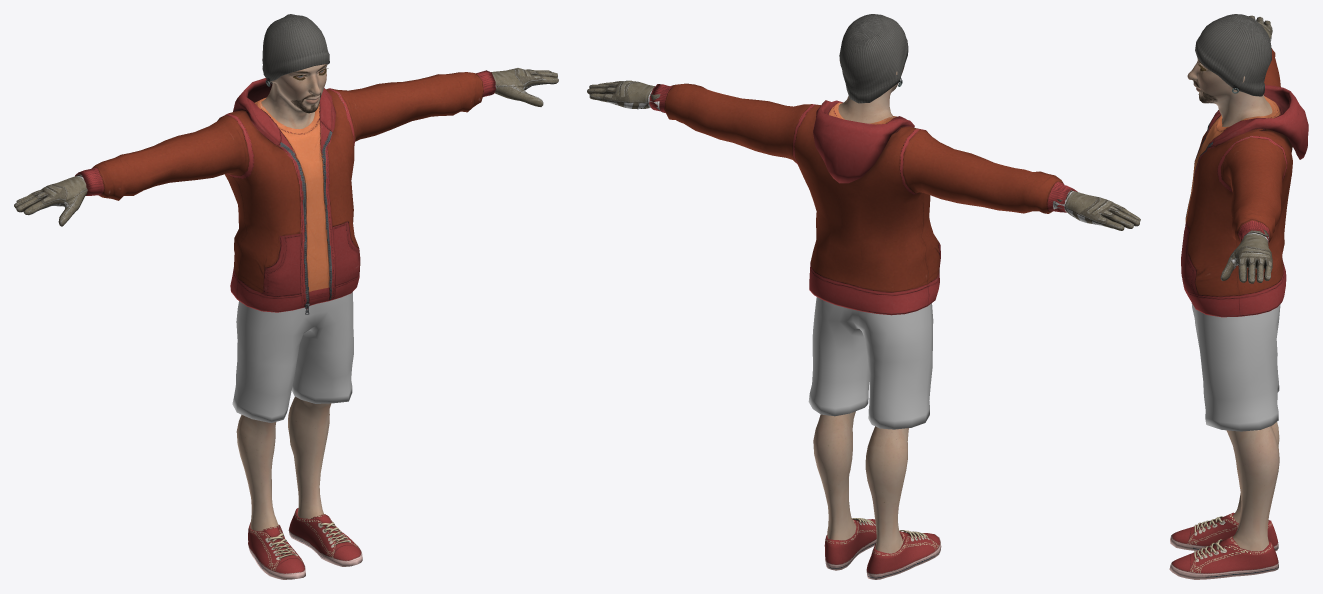
The picture shows the model from 3 angles, left to right: view 1: azimuth 30°, elevation 25°; view 2: azimuth 150°, elevation 25°; view 3: azimuth 270°, elevation 25°; orthographic projection.
Parts seen in each view (by area): view 1: Tops, Bottoms, Body, Shoes, Gloves, Hats; view 2: Tops, Bottoms, Body, Hats, Shoes, Gloves; view 3: Tops, Bottoms, Body, Shoes, Hats, Gloves.
Part boxes in pixels (x1,y1,x2,y2): Tops: (75, 70, 495, 314); Bottoms: (232, 292, 353, 422); Body: (236, 64, 331, 531); Shoes: (248, 508, 362, 579); Gloves: (14, 68, 558, 226); Hats: (262, 14, 329, 86); Tops: (649, 83, 1077, 315); Bottoms: (808, 297, 933, 429); Body: (813, 59, 908, 553); Hats: (839, 14, 908, 103); Shoes: (824, 518, 941, 579); Gloves: (587, 80, 1140, 230); Tops: (1181, 48, 1308, 317); Bottoms: (1191, 303, 1280, 431); Body: (1187, 58, 1279, 551); Shoes: (1169, 512, 1278, 579); Hats: (1195, 14, 1271, 96); Gloves: (1220, 15, 1272, 283).
Size of the model in its own units: 194 by 183 by 42.66.
